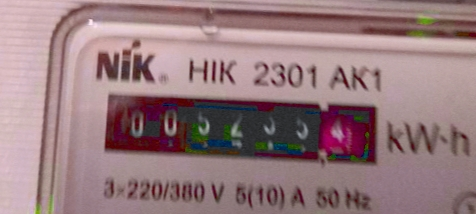0: (161, 103, 183, 137), (129, 105, 148, 137)
2: (227, 103, 250, 138)
3: (259, 103, 285, 137)
4: (328, 107, 352, 144)
5: (293, 104, 317, 141), (195, 102, 216, 137)
screen: (88, 74, 395, 178)
